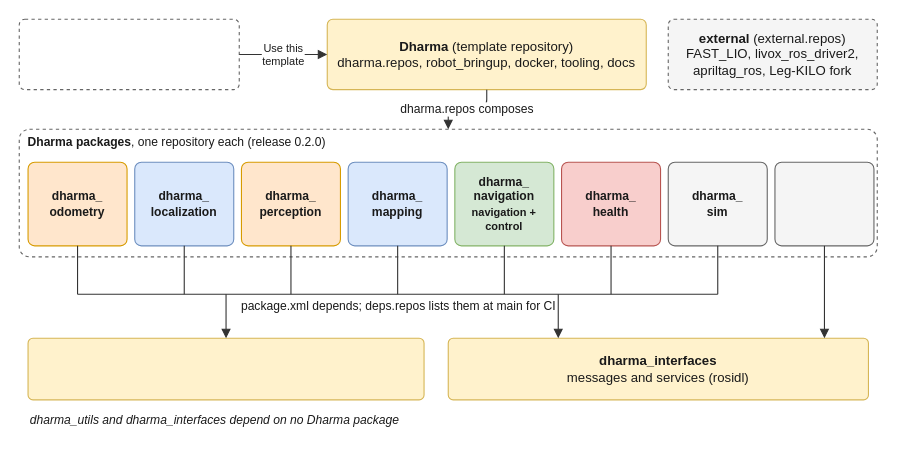
Image size: 897x452. Some labels were removed from this diagram. Each missing label, with the centre of its shape:
dharma_rviz C++ panels: the point at 824,203
dharma_utils pure Python + numpy core, thin ROS helpers: the point at 225,368
product repository e.g. Molly: robot bringup, missions, product features: the point at 128,54
